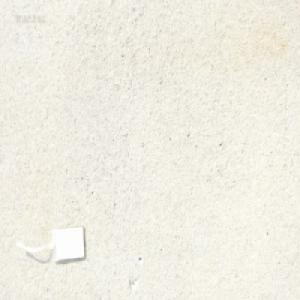LuggageTag: (14, 223, 88, 265)
